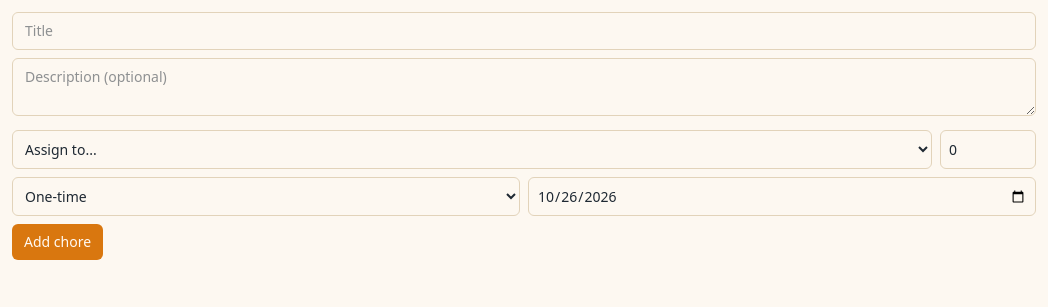
it: ChoreForm › shows an error message on failure
Step 1. Type "x" into the field with placeholder "Title" → (524, 31), box [12,12,1036,50]
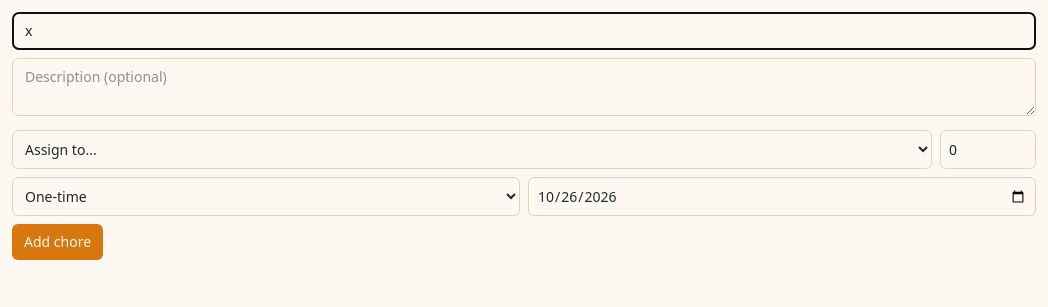
Step 2. Select "🦊 Kid" in the 1st dropdown "Assign to..." → (472, 150), box [12,130,932,169]
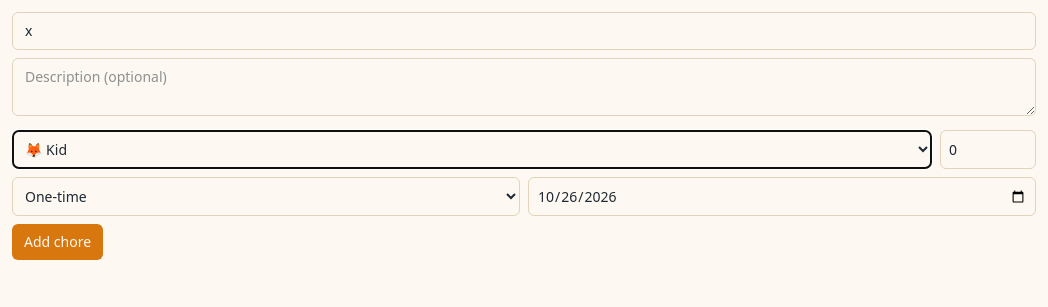
Step 3. Click the button "Add chore" → (58, 242), box [12,224,103,260]
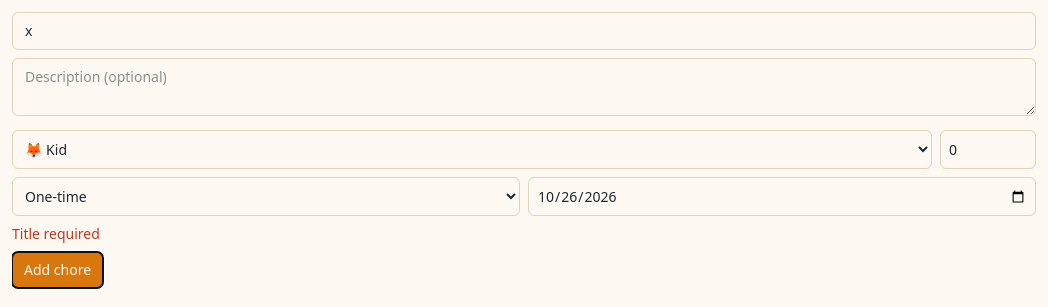
Check: the message reads "Title required", box [12,224,100,243]
